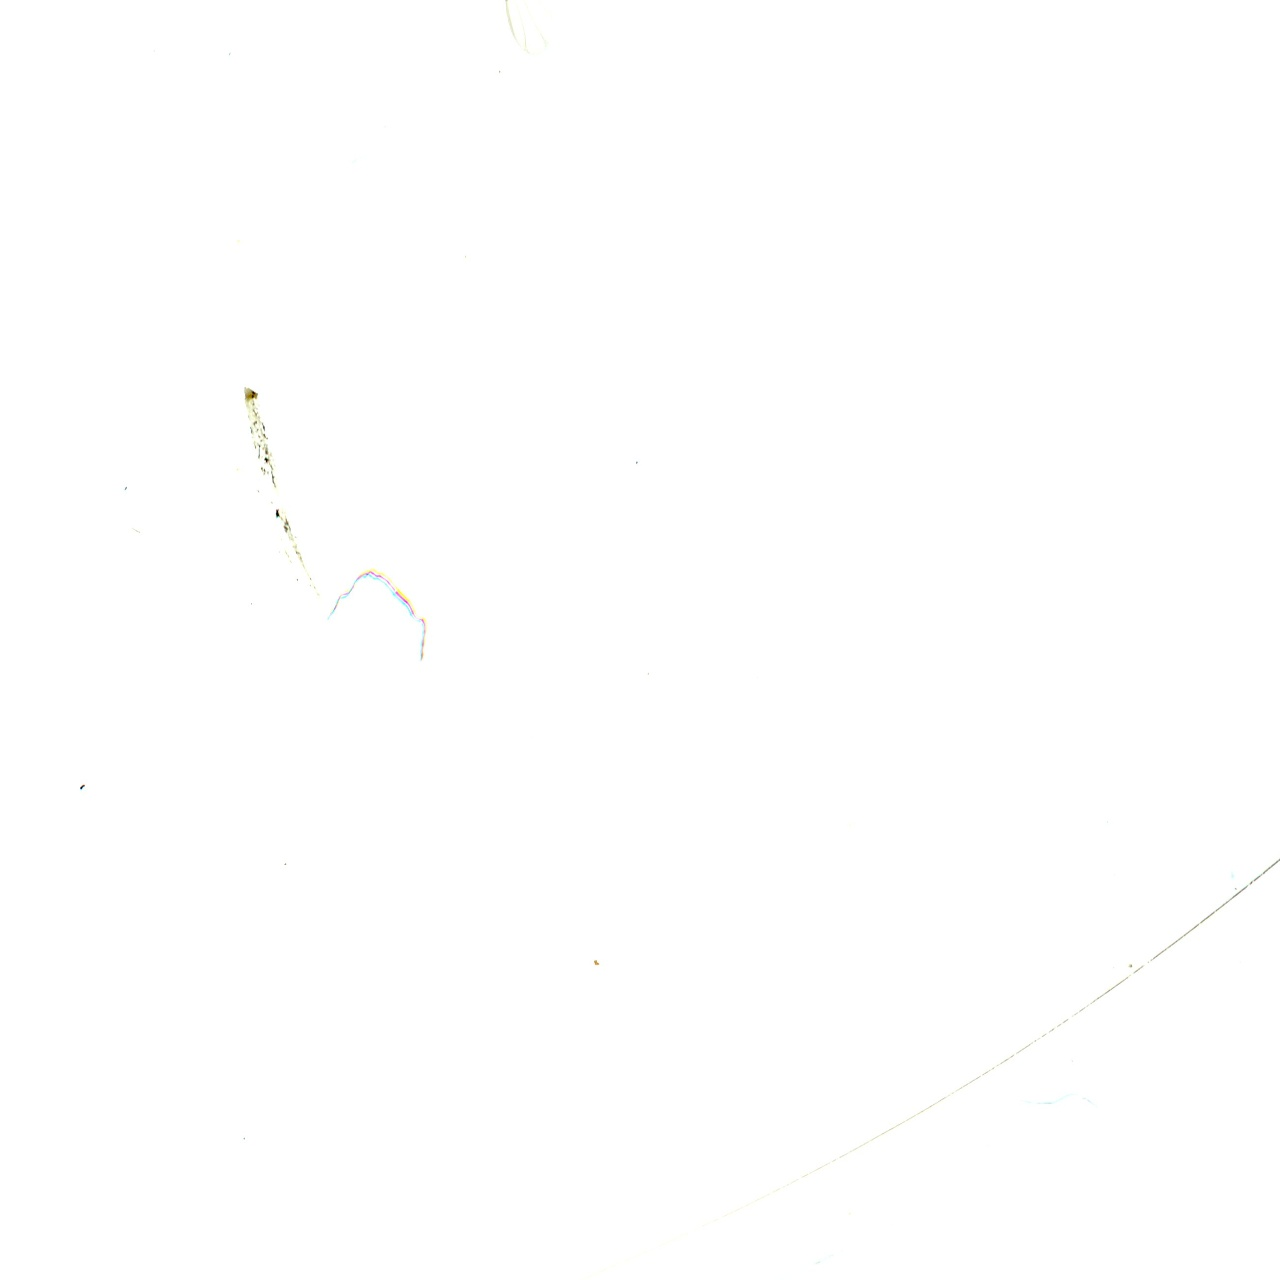arthropod: (465, 0, 618, 54)
